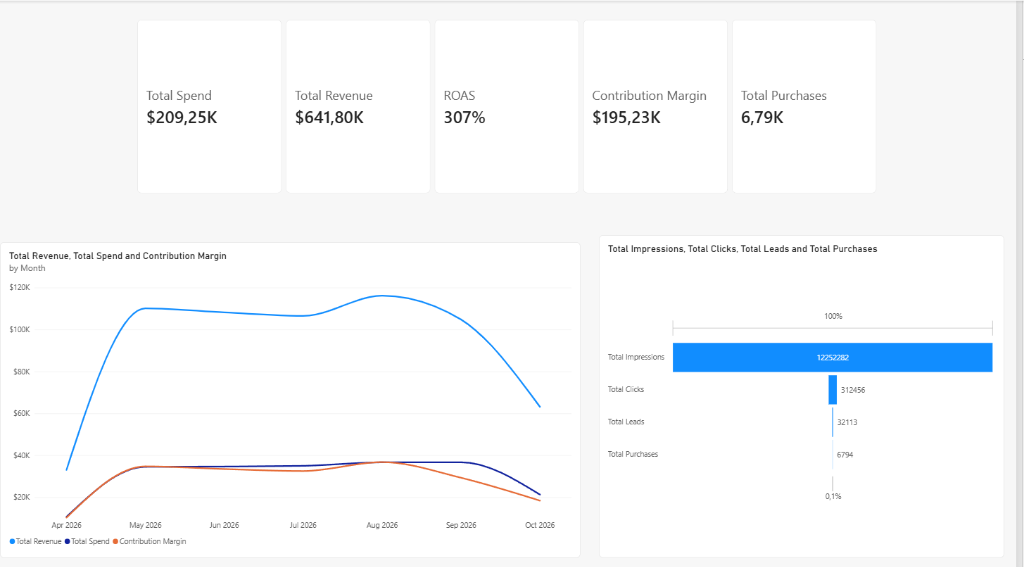

This screenshot's page, from the dashboard's own definition file:
{"tool":"powerbi","page":{"name":"Executive Summary","canvas":[1920,1080],"ordinal":0},"visuals":[{"type":"cardVisual","fields":{"Data":["_Measures.Total Spend","_Measures.Total Revenue","_Measures.ROAS","_Measures.Contribution Margin","_Measures.Total Purchases"]},"box":[259.7,36.5,1400.6,328.3],"z":0},{"type":"lineChart","fields":{"Category":["mart_marketing_funnel.Month"],"Y":["_Measures.Total Revenue","_Measures.Total Spend","_Measures.Contribution Margin"]},"box":[0,456.7,1097.1,596.7],"z":1000},{"type":"funnel","fields":{"Y":["_Measures.Total Impressions","_Measures.Total Clicks","_Measures.Total Leads","_Measures.Total Purchases"]},"box":[1132.2,443.5,766,609.8],"z":2000}]}

Visuals, with their boxes in screenshot pixels (x1, y1, x2, y2), scaled from the page's 1920x1080 canvas onto the 1024x567 screenshot:
cardVisual - _Measures.Total Spend x _Measures.Total Revenue: 139, 19, 885, 192
lineChart - mart_marketing_funnel.Month x _Measures.Total Revenue: 0, 240, 585, 553
funnel - _Measures.Total Impressions x _Measures.Total Clicks: 604, 233, 1012, 553
